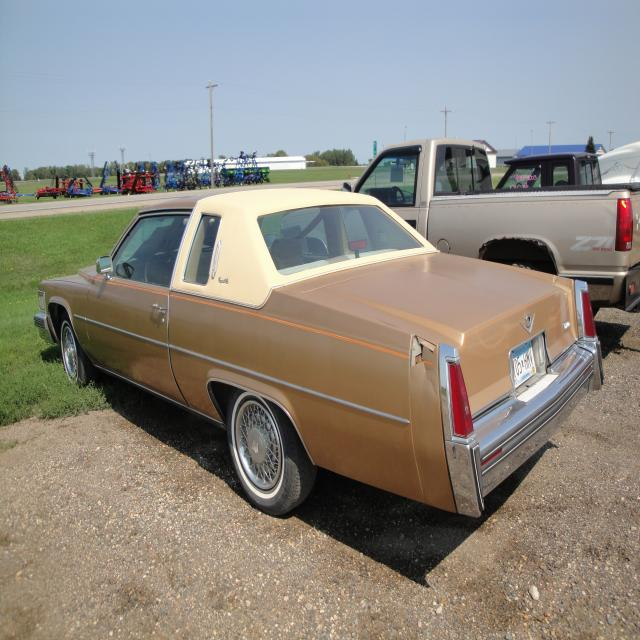car: (32, 185, 605, 523)
